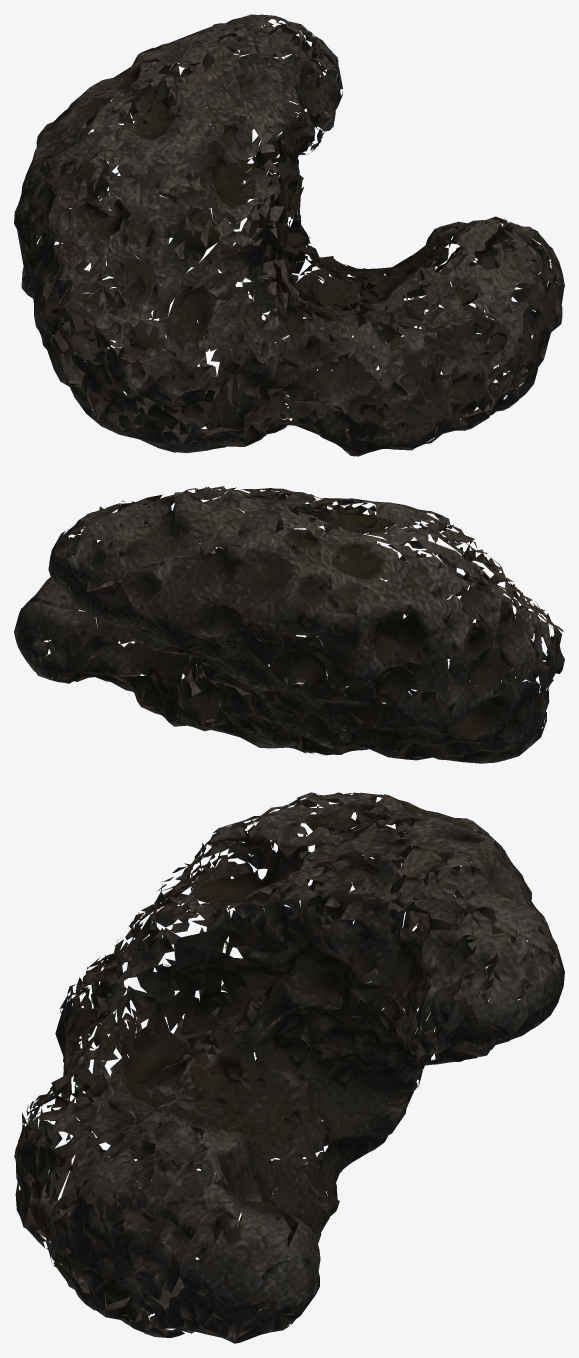
The model's file is asteroid_rare_2_lod1.glb.
3 renders of one model, top to bottom at view 1: azimuth 30°, elevation 25°; view 2: azimuth 150°, elevation 25°; view 3: azimuth 270°, elevation 25°, orthographic. The views are drawn at different scales.
Visible parts, largest first — view 1: model; view 2: model; view 3: model.
Boxes of the visible parts, bbox=[...] form: model: bbox=[14, 14, 564, 456]; model: bbox=[14, 486, 564, 763]; model: bbox=[14, 792, 564, 1343].
Bounding box in the file's own units: 1.9 × 1.15 × 1.45.
Materials: 1 (1 with a texture image).
